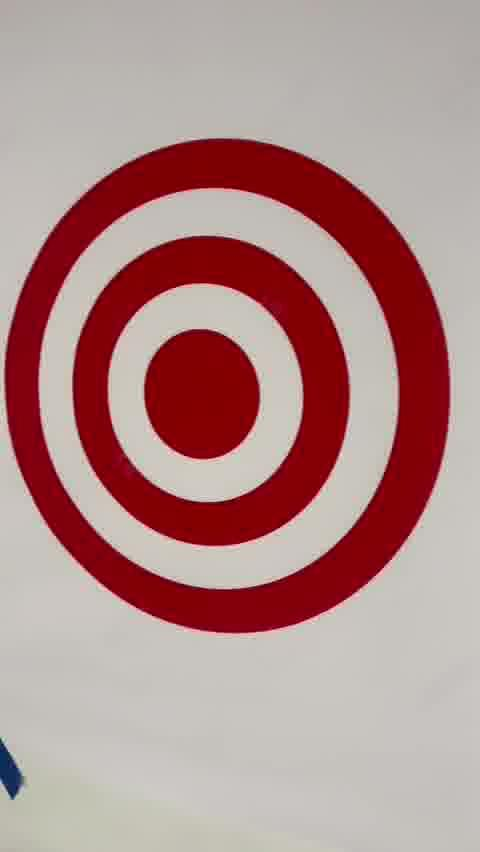target_red: (2, 139, 448, 635)
